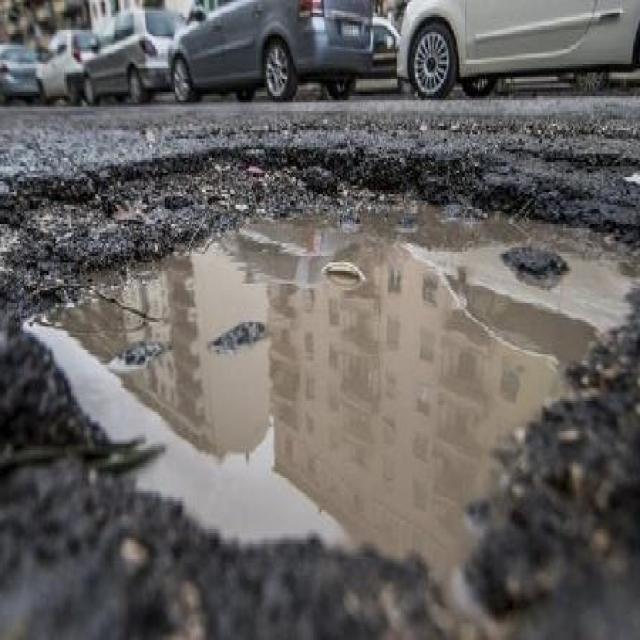pothole: (1, 130, 640, 595)
